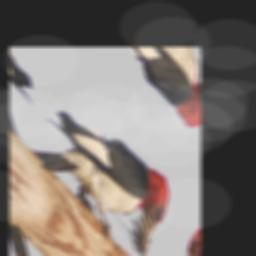Woodpecker: (23, 78, 176, 256)
